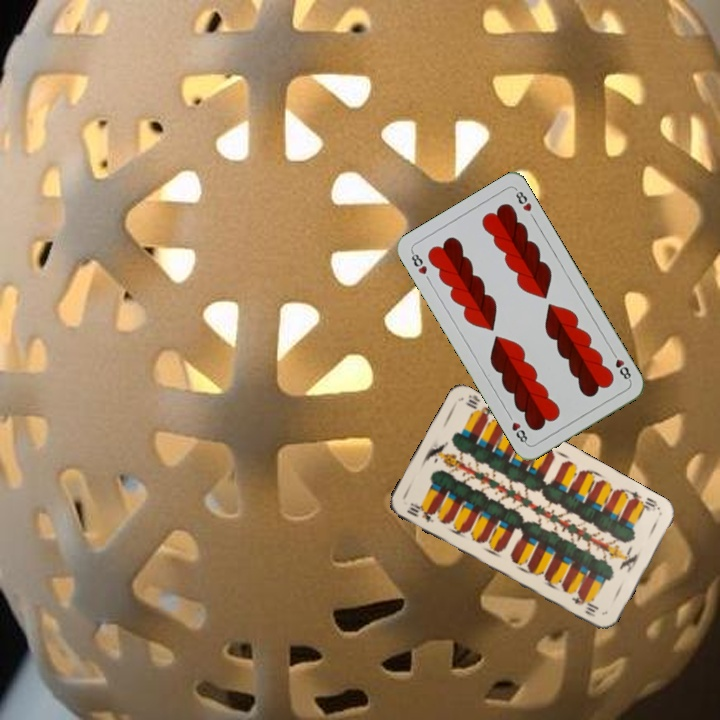E10: (625, 487, 663, 514), (402, 498, 437, 525)
H8: (608, 347, 634, 384), (407, 248, 430, 277)
